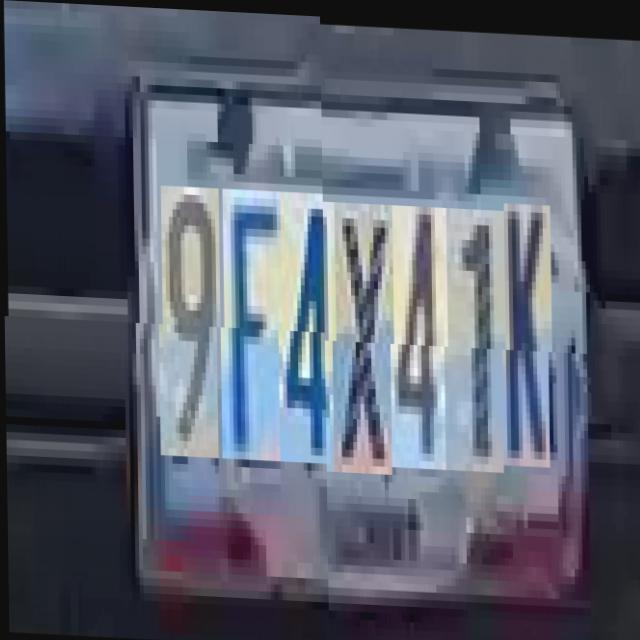1: (446, 203, 506, 468)
4: (280, 196, 336, 468), (392, 201, 448, 465)
9: (160, 192, 221, 464)
F: (222, 194, 282, 466)
K: (503, 198, 553, 462)
X: (334, 198, 394, 471)
